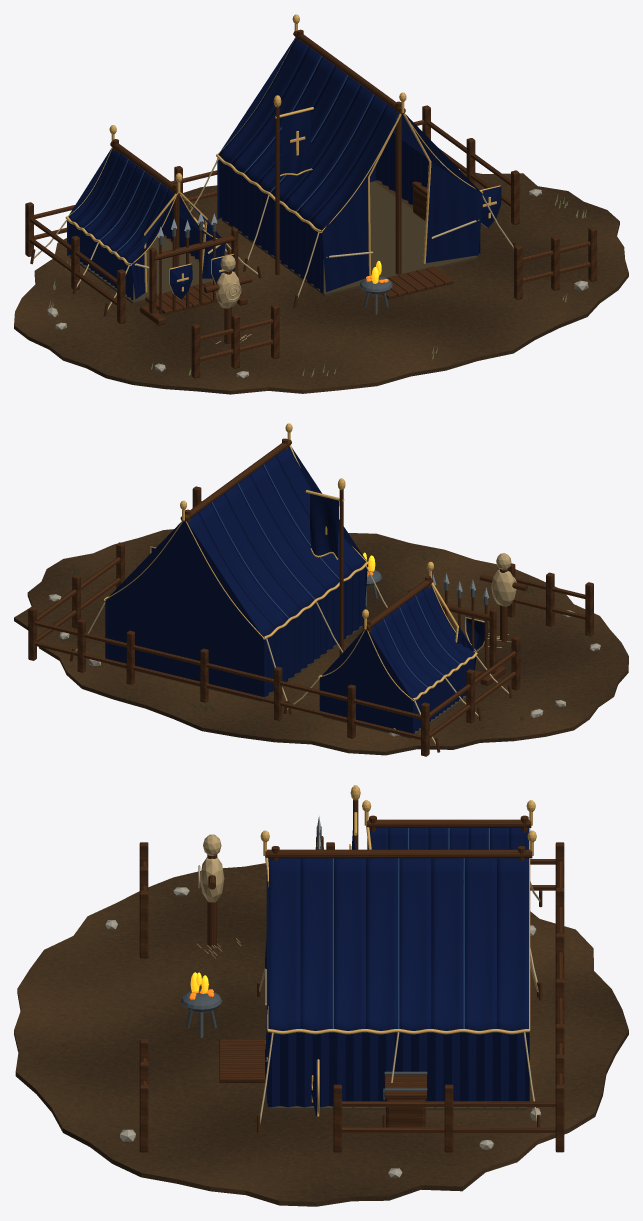
Rendered from Cuartel_ChatGPT_v1.glb.
The picture shows the model from 3 angles, top to bottom: view 1: azimuth 30°, elevation 25°; view 2: azimuth 150°, elevation 25°; view 3: azimuth 270°, elevation 25°; orthographic projection. The views are drawn at different scales.
Visible parts, largest first — view 1: EXPORT Trampled earth, EXPORT Royal blue woven canvas, EXPORT Weathered structural oak, EXPORT Interior natural woven mat, EXPORT Ochre gold embroidered edging, EXPORT Hemp ropes, EXPORT Training sack and straw, EXPORT Canvas shadow blue, EXPORT Forged iron, EXPORT Warm broken stone; view 2: EXPORT Royal blue woven canvas, EXPORT Trampled earth, EXPORT Weathered structural oak, EXPORT Ochre gold embroidered edging, EXPORT Training sack and straw, EXPORT Canvas shadow blue, EXPORT Hemp ropes, EXPORT Interior natural woven mat, EXPORT Warm broken stone; view 3: EXPORT Trampled earth, EXPORT Royal blue woven canvas, EXPORT Weathered structural oak, EXPORT Ochre gold embroidered edging, EXPORT Forged iron, EXPORT Training sack and straw, EXPORT Canvas shadow blue, EXPORT Hemp ropes, EXPORT Interior natural woven mat, EXPORT Warm broken stone.
Boxes of the visible parts, left/top/right/bottom form: EXPORT Trampled earth: left=14, top=170, right=628, bottom=394; EXPORT Royal blue woven canvas: left=67, top=37, right=501, bottom=300; EXPORT Weathered structural oak: left=25, top=29, right=596, bottom=378; EXPORT Interior natural woven mat: left=69, top=181, right=476, bottom=303; EXPORT Ochre gold embroidered edging: left=65, top=14, right=500, bottom=299; EXPORT Hemp ropes: left=33, top=158, right=513, bottom=310; EXPORT Training sack and straw: left=215, top=254, right=251, bottom=343; EXPORT Canvas shadow blue: left=84, top=56, right=374, bottom=251; EXPORT Forged iron: left=158, top=182, right=427, bottom=314; EXPORT Warm broken stone: left=47, top=189, right=588, bottom=378; EXPORT Royal blue woven canvas: left=105, top=446, right=488, bottom=733; EXPORT Trampled earth: left=14, top=529, right=628, bottom=755; EXPORT Weathered structural oak: left=28, top=438, right=593, bottom=756; EXPORT Ochre gold embroidered edging: left=104, top=423, right=484, bottom=700; EXPORT Training sack and straw: left=487, top=553, right=516, bottom=647; EXPORT Canvas shadow blue: left=212, top=464, right=459, bottom=687; EXPORT Hemp ropes: left=75, top=565, right=516, bottom=745; EXPORT Interior natural woven mat: left=110, top=625, right=466, bottom=738; EXPORT Warm broken stone: left=48, top=594, right=600, bottom=736; EXPORT Trampled earth: left=14, top=863, right=628, bottom=1206; EXPORT Royal blue woven canvas: left=265, top=815, right=529, bottom=1115; EXPORT Weathered structural oak: left=139, top=799, right=564, bottom=1152; EXPORT Ochre gold embroidered edging: left=260, top=785, right=536, bottom=1116; EXPORT Forged iron: left=181, top=826, right=427, bottom=1100; EXPORT Training sack and straw: left=197, top=834, right=241, bottom=958; EXPORT Canvas shadow blue: left=332, top=828, right=489, bottom=1028; EXPORT Hemp ropes: left=198, top=865, right=540, bottom=1124; EXPORT Interior natural woven mat: left=270, top=1106, right=526, bottom=1110; EXPORT Warm broken stone: left=105, top=887, right=540, bottom=1177.
Size of the model in its own units: 11.37 by 3.67 by 8.58.
14 materials, 3 textured.
